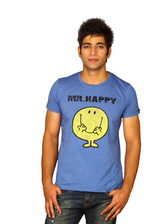clothoes: (40, 68, 140, 195)
